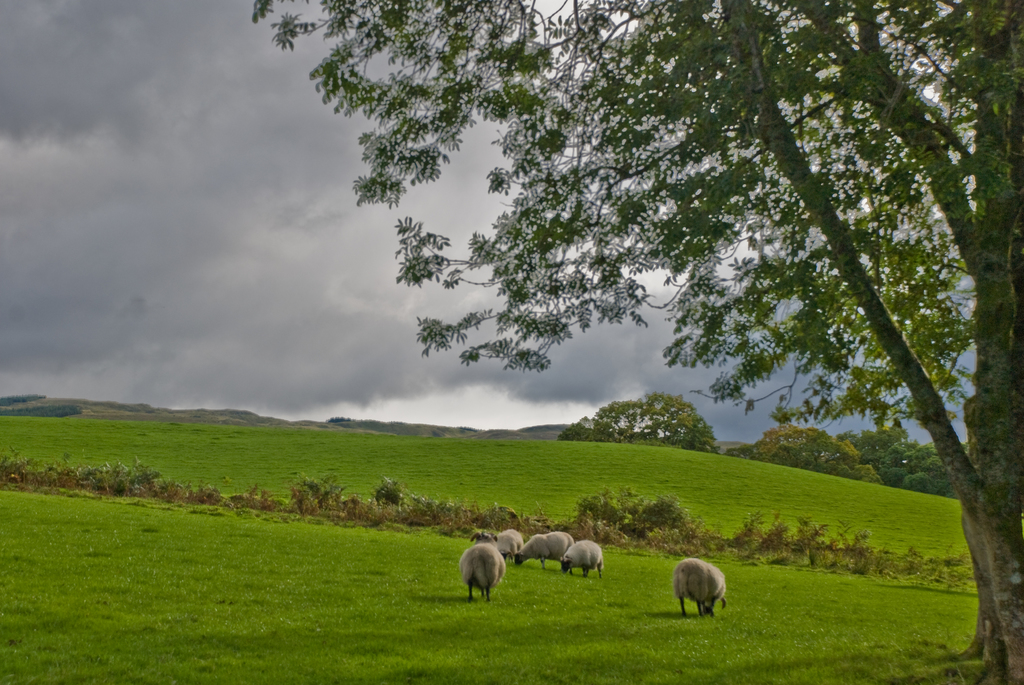sheep: (458, 531, 508, 606), (677, 559, 725, 616), (561, 541, 607, 576)
